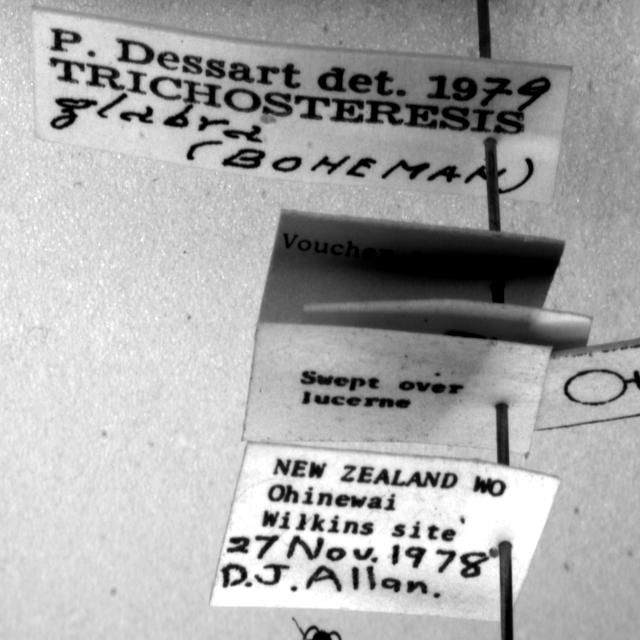mixed_label: (32, 9, 571, 202), (210, 444, 560, 621)
typed_label: (244, 322, 550, 454)
